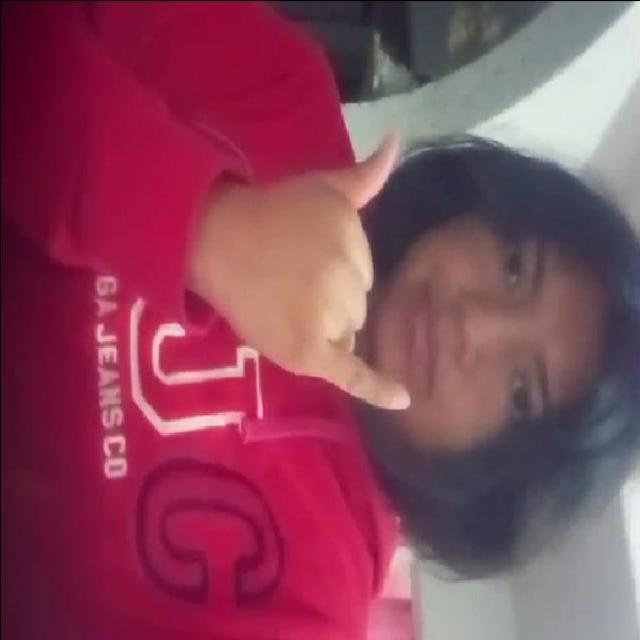Y: (208, 100, 447, 483)
